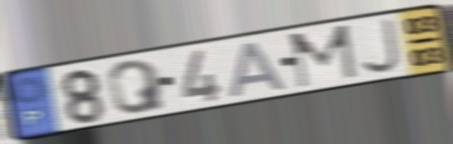4: (180, 46, 224, 103)
8: (58, 64, 107, 125)
A: (228, 39, 291, 100)
J: (357, 16, 402, 76)
M: (287, 22, 360, 91)
Q: (105, 57, 169, 116)
